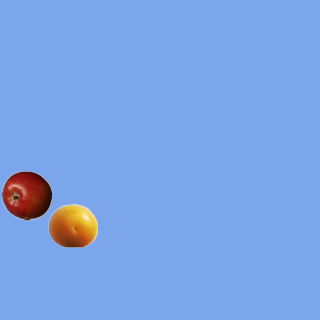Apple Braeburn: (1, 170, 51, 220)
Cherry Wax Yellow: (47, 200, 97, 250)
